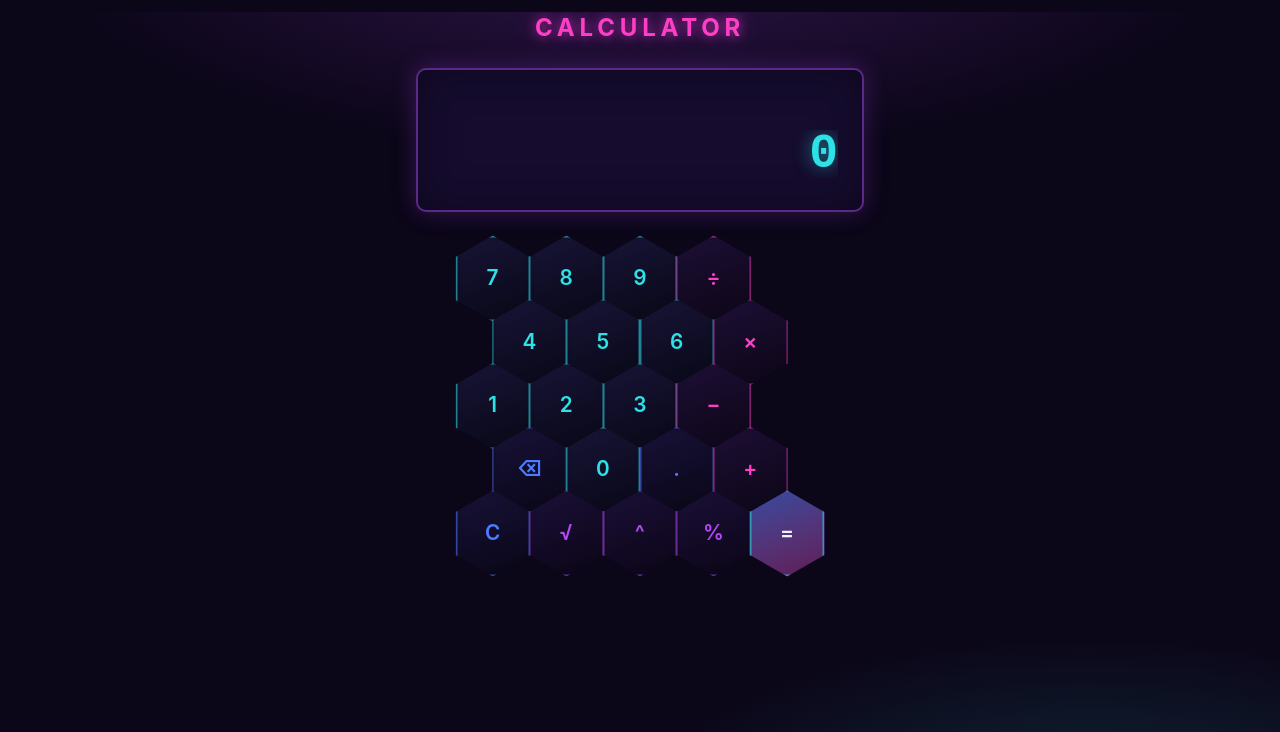
Test case: CalculatorPage › computes 3 + 4 via the backend and displays the result
Click the button "3" at (640, 406), box x1=603 y1=363 x2=677 y2=449
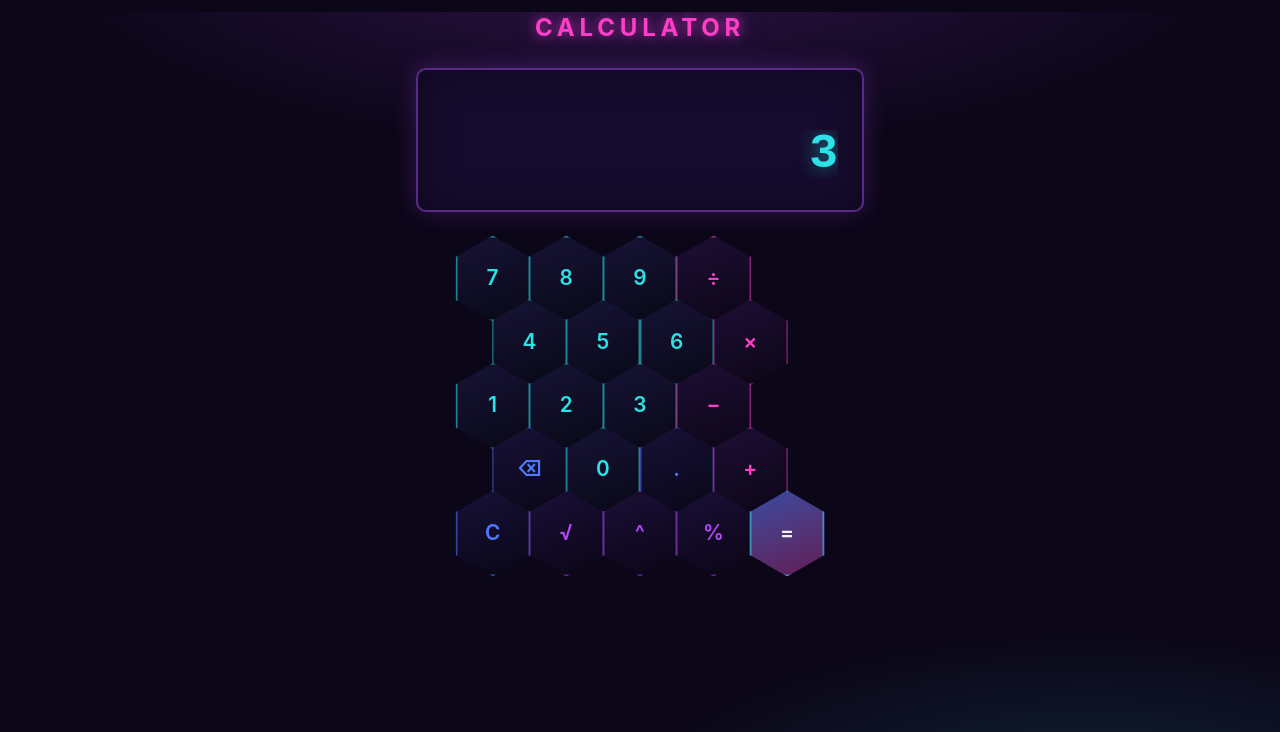
Click the button named "add" at (750, 470), box x1=713 y1=427 x2=788 y2=513
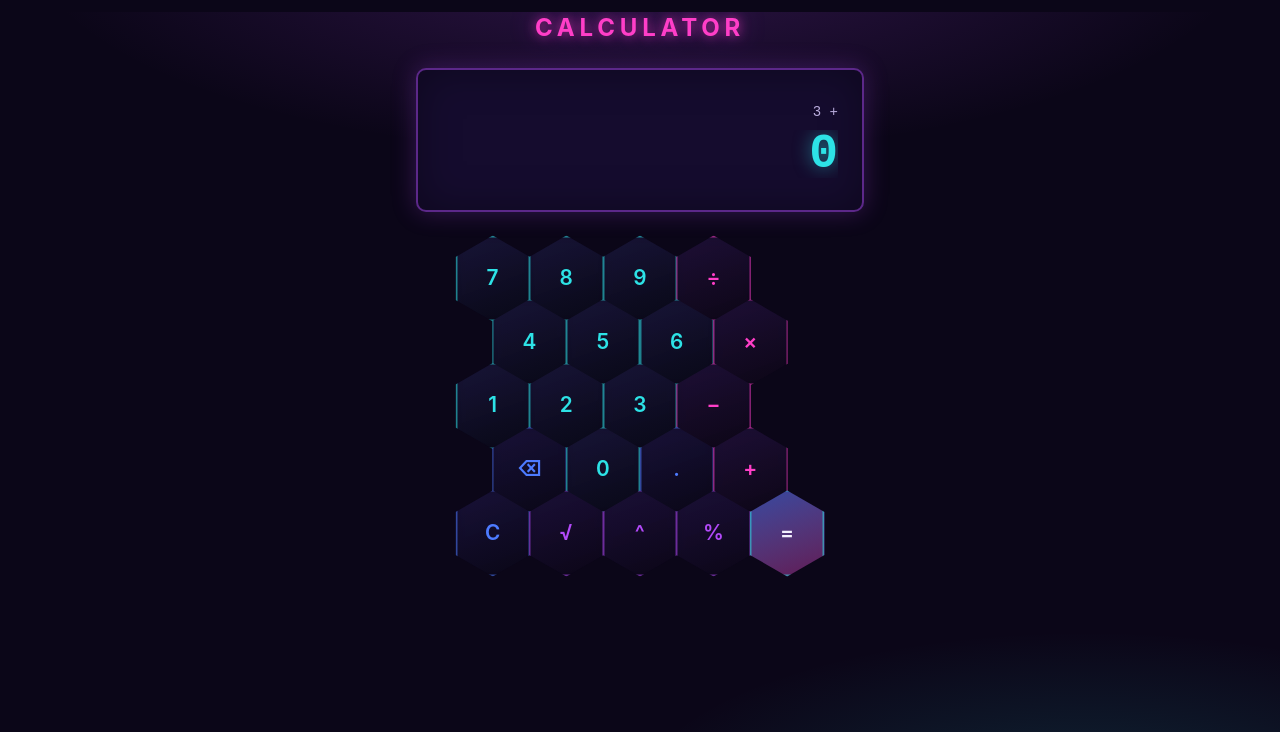
Click the button "4" at (530, 342), box x1=492 y1=299 x2=567 y2=385
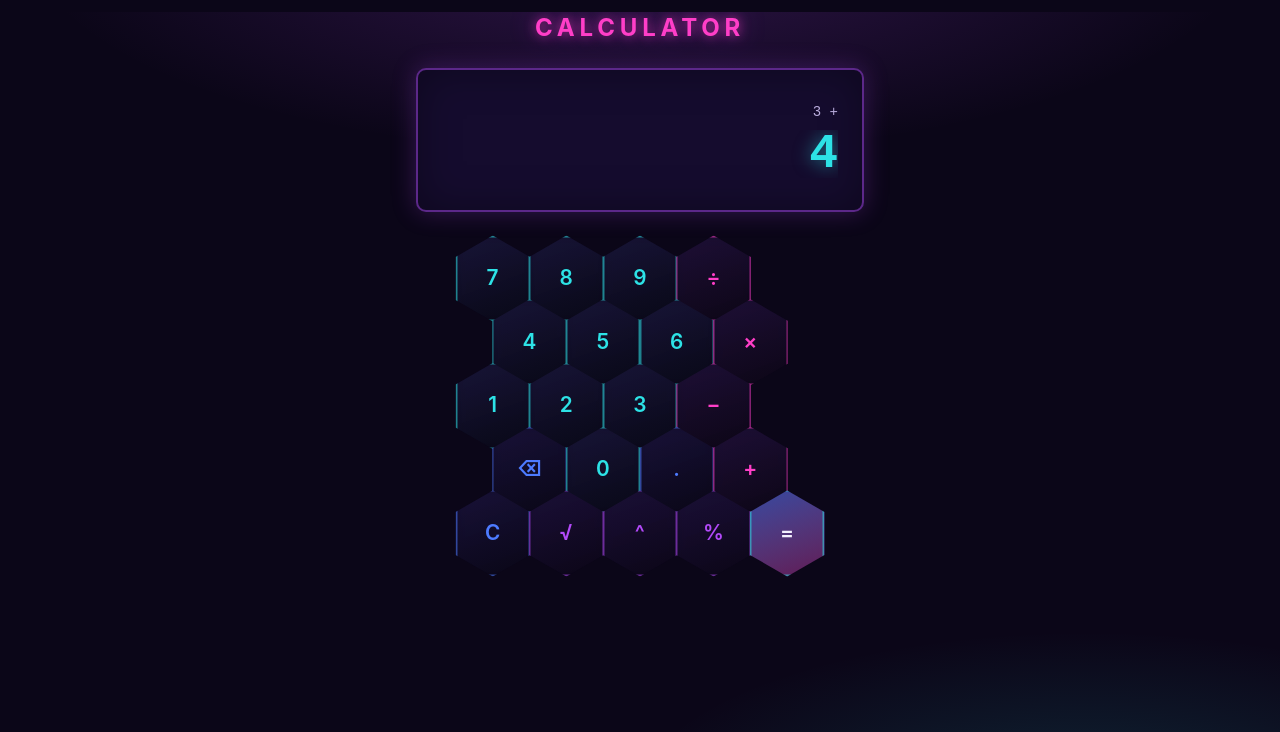
Click the button named "equals" at (787, 534), box x1=750 y1=490 x2=824 y2=576
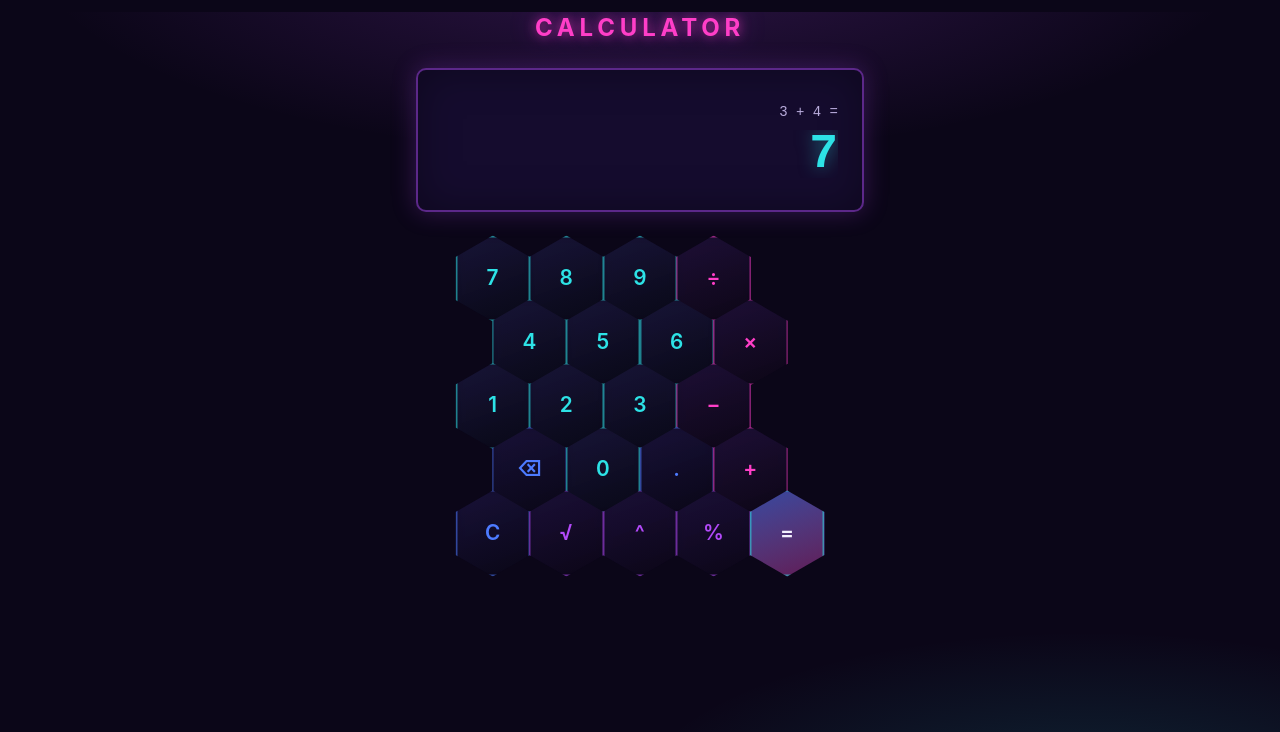
Check: the text "7" below "3 + 4 =" is shown, box x1=809 y1=127 x2=838 y2=181
